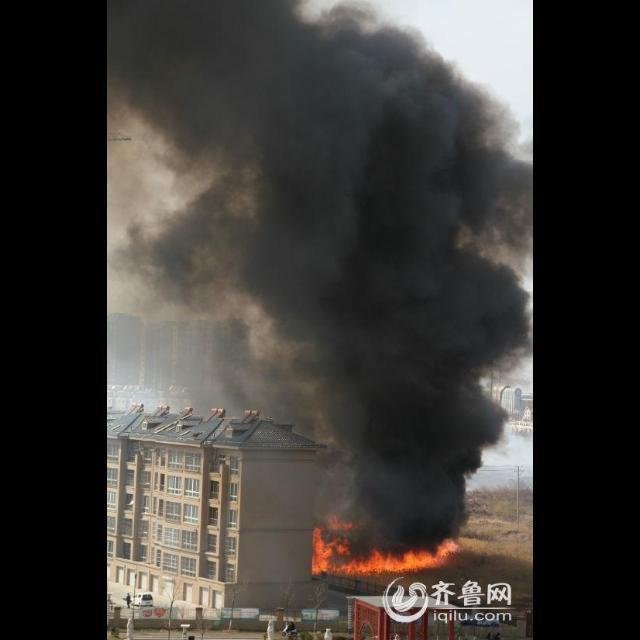Fire: (310, 516, 462, 576)
Smoke: (108, 2, 532, 520)
